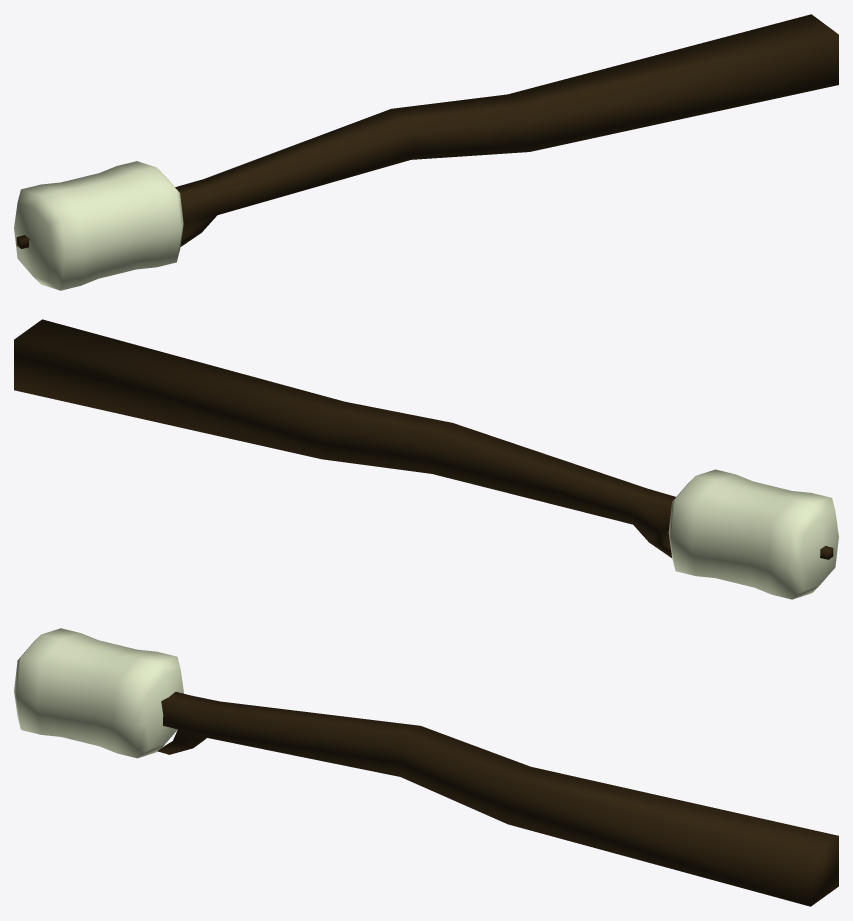
Rendered from zefirka.fbx.
The picture shows the model from 3 angles, top to bottom: view 1: azimuth 30°, elevation 25°; view 2: azimuth 150°, elevation 25°; view 3: azimuth 330°, elevation 25°; orthographic projection.
Parts seen in each view (by area): view 1: stick, mars; view 2: stick, mars; view 3: stick, mars.
Boxes of the visible parts, x1,y1,x2,y2 form: stick: (16, 14, 838, 248); mars: (14, 161, 183, 290); stick: (14, 319, 833, 559); mars: (668, 469, 838, 599); stick: (157, 692, 838, 906); mars: (14, 628, 183, 758).
Size of the model in its own units: 215 by 22.66 by 22.66.
